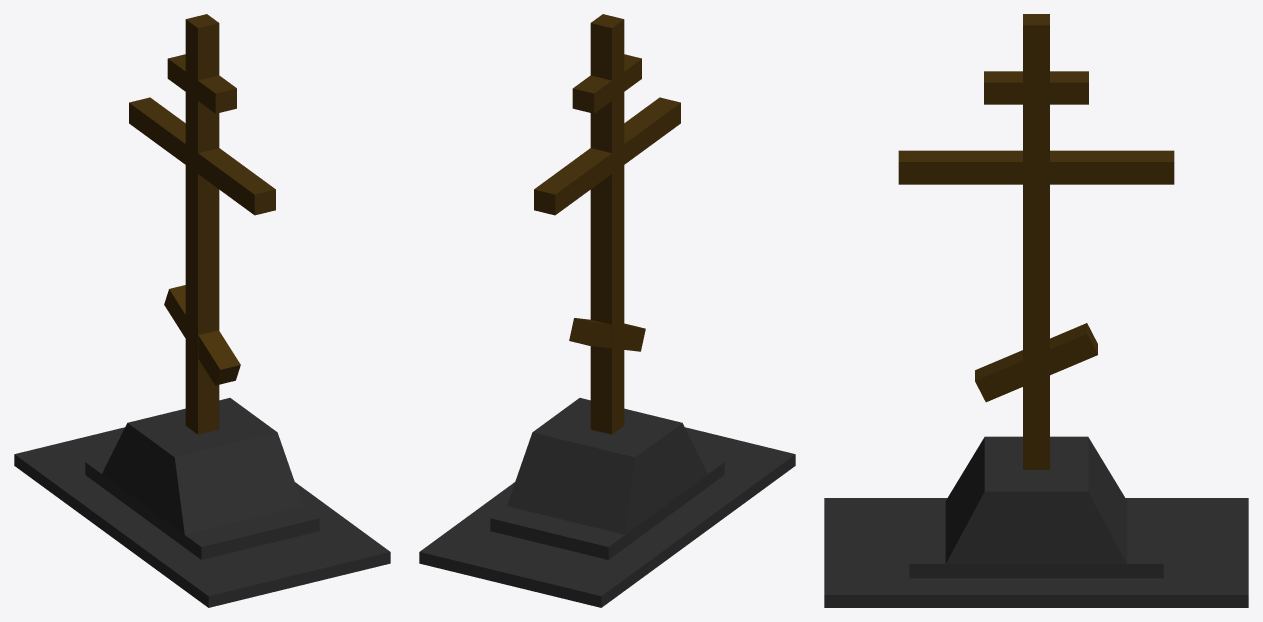
The model's file is krest.fbx.
The picture shows the model from 3 angles, left to right: view 1: azimuth 30°, elevation 25°; view 2: azimuth 150°, elevation 25°; view 3: azimuth 270°, elevation 25°; orthographic projection. The views are drawn at different scales.
Parts seen in each view (by area): view 1: Cube.014; view 2: Cube.014; view 3: Cube.014.
Part boxes in pixels (x1,y1,x2,y2): Cube.014: (14,14,390,607); Cube.014: (419,14,795,607); Cube.014: (824,14,1248,607).
Bounding box in the file's own units: 200 × 519 × 370.
